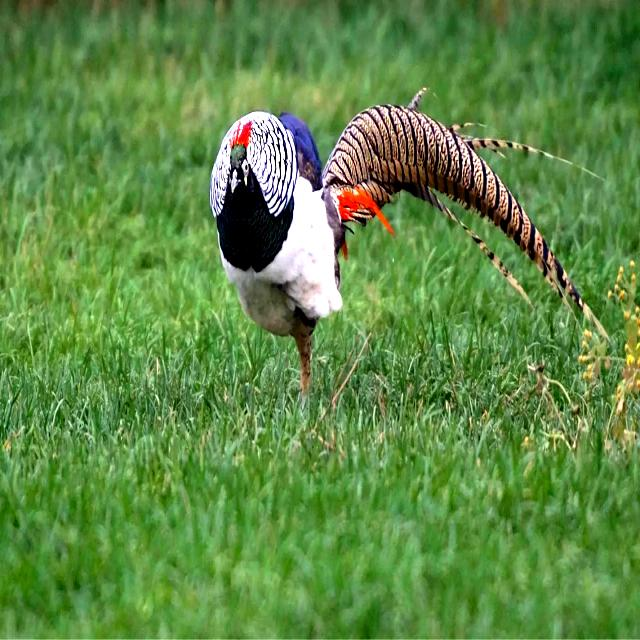Chrysolophus amherstiae: (323, 106, 590, 314)
